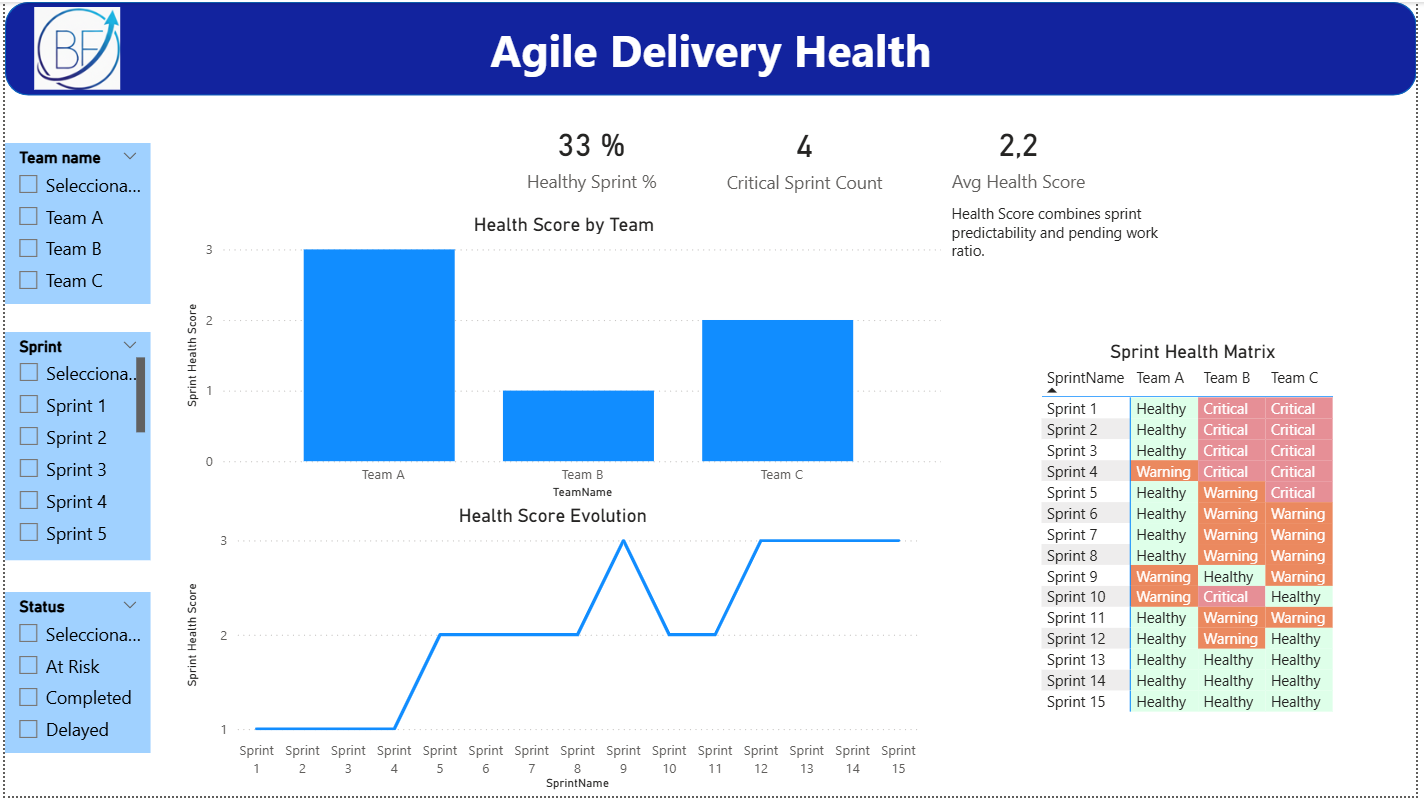

This screenshot's page, from the dashboard's own definition file:
{"tool":"powerbi","page":{"name":"Agile Delivery Health","canvas":[1280,720],"ordinal":0},"visuals":[{"type":"shape","box":[0,0,1280,84.8],"z":0},{"type":"image","box":[24.4,4.6,82.5,75.5],"z":1000},{"type":"card","fields":{"Values":["Medidas DAX.Critical Sprint Count"]},"box":[640.5,85.9,169.8,105.1],"z":2000,"group":"g1"},{"type":"lineChart","title":"Health Score Evolution","fields":{"Category":["Agile_sprint.SprintName"],"Y":["Medidas DAX.Sprint Health Score"]},"box":[159.2,455.6,674.3,264.1],"z":2000},{"type":"card","fields":{"Values":["Medidas DAX.Healthy Sprint %"]},"box":[447,86.3,169.6,104.3],"z":3000,"group":"g1"},{"type":"clusteredColumnChart","title":"Health Score by Team","fields":{"Category":["Agile_sprint.TeamName"],"Y":["Medidas DAX.Sprint Health Score"]},"box":[159.2,191.5,694.4,264.1],"z":3000},{"type":"pivotTable","title":"Sprint Health Matrix","fields":{"Rows":["Agile_sprint.SprintName"],"Columns":["Agile_sprint.TeamName"],"Values":["Medidas DAX.Label Sprint Health Status"]},"box":[935.3,306.4,284.2,349.7],"z":4000},{"type":"slicer","fields":{"Values":["Agile_sprint.SprintName"]},"box":[0,299.7,132.4,206.8],"z":5000},{"type":"slicer","fields":{"Values":["Agile_sprint.TeamName"]},"box":[0,127.8,132.4,146.4],"z":6000},{"type":"slicer","fields":{"Values":["Agile_sprint.SprintStatus"]},"box":[0,535.5,132.4,146.4],"z":7000},{"type":"group","id":"g1","title":"Grupo 1","box":[447,85.9,363.3,105.1],"z":8000},{"type":"card","fields":{"Values":["Medidas DAX.Avg Health Score"]},"box":[834.3,86.3,169.6,104.3],"z":9000},{"type":"textbox","box":[853.7,177.4,202.6,62.5],"z":10000}]}

Visuals, with their boxes in screenshot pixels (x1, y1, x2, y2), scaled from the page's 1280x720 canvas onto the 1424x803 screenshot:
shape: Rect(0, 0, 1423, 95)
image: Rect(27, 5, 119, 89)
card - Medidas DAX.Critical Sprint Count: Rect(713, 96, 901, 213)
"Health Score Evolution" lineChart: Rect(177, 508, 927, 802)
card - Medidas DAX.Healthy Sprint %: Rect(497, 96, 686, 213)
"Health Score by Team" clusteredColumnChart: Rect(177, 214, 950, 508)
"Sprint Health Matrix" pivotTable: Rect(1041, 342, 1357, 732)
slicer - Agile_sprint.SprintName: Rect(0, 334, 147, 565)
slicer - Agile_sprint.TeamName: Rect(0, 143, 147, 306)
slicer - Agile_sprint.SprintStatus: Rect(0, 597, 147, 761)
"Grupo 1" group: Rect(497, 96, 901, 213)
card - Medidas DAX.Avg Health Score: Rect(928, 96, 1117, 213)
textbox: Rect(950, 198, 1175, 268)
